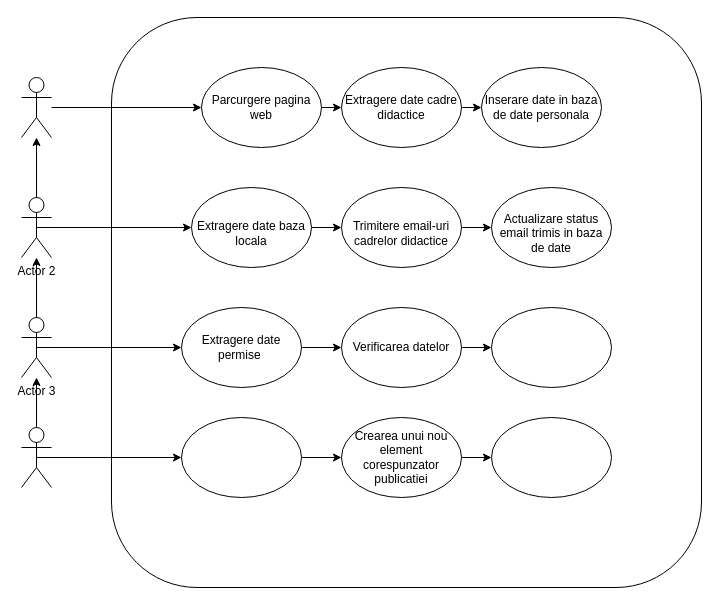
This 719x605 diagram has some shape labels left out. The centre of each missing label's shape, as x and y in pixels:
"Actor 1" belongs at [36,107].
"Actor 4" belongs at [36,457].
"Afisarea in aplicatie" belongs at [551,457].
"Extragere date publicatii originale" belongs at [241,457].
"Inserarea in baza de date locala a rezultatului obtinut" belongs at [551,347].
